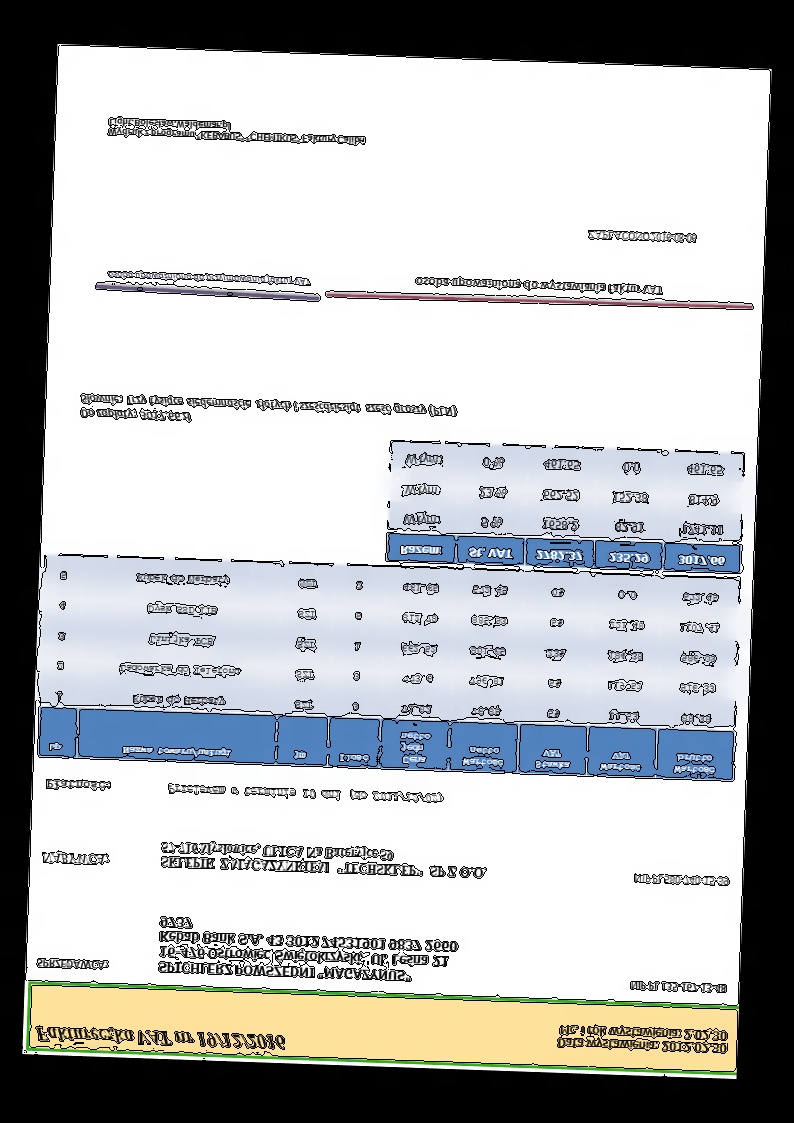Table: (36, 551, 742, 784), (385, 439, 746, 574)
TextBox: (156, 915, 461, 986), (78, 390, 458, 434), (159, 838, 488, 881), (106, 116, 368, 148), (33, 1022, 288, 1053), (165, 780, 444, 808), (413, 273, 663, 298), (556, 1023, 729, 1057), (105, 266, 312, 289), (585, 227, 699, 246), (632, 870, 731, 889), (629, 979, 730, 997), (39, 849, 111, 870), (35, 955, 108, 973), (44, 777, 115, 794)
